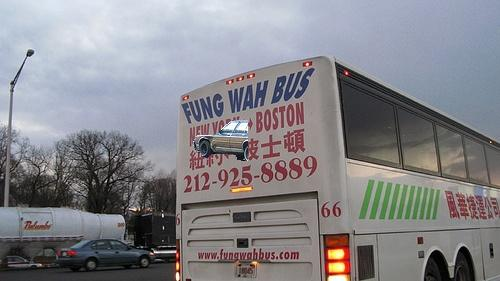tampered: (193, 121, 248, 161)
